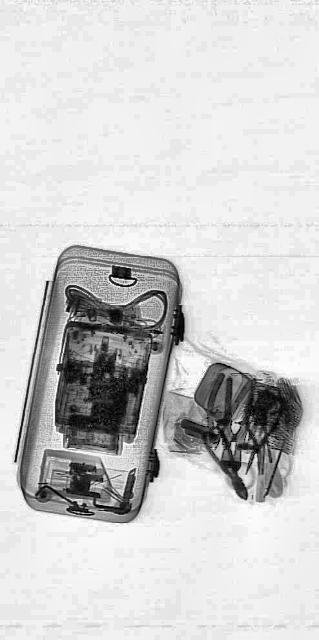Pliers: (197, 403, 255, 513), (215, 368, 255, 478), (245, 392, 278, 476)
